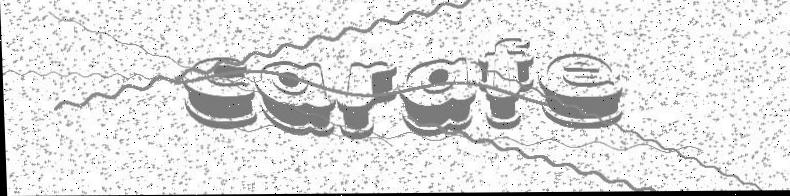a: (254, 58, 335, 139), (398, 56, 477, 138)
c: (181, 57, 258, 131)
e: (535, 53, 624, 131)
f: (476, 37, 535, 130)
r: (334, 61, 398, 140)
